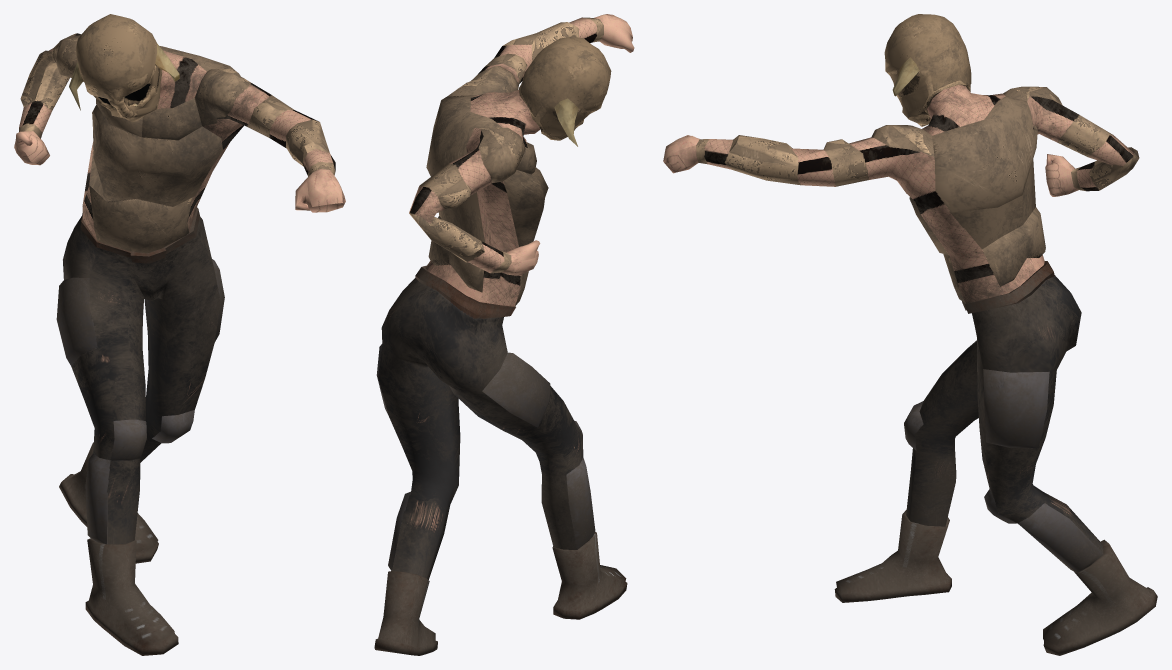
Rendered from Anim_ataque_d3_npc1.0035.obj.
3 views of the same model, side by side, from view 1: azimuth 30°, elevation 25°; view 2: azimuth 150°, elevation 25°; view 3: azimuth 270°, elevation 25° (orthographic). The views are drawn at different scales.
Visible parts, largest first — view 1: NPC2; view 2: NPC2; view 3: NPC2.
Boxes of the visible parts, <box> form: NPC2: <box>14,14,345,655</box>; NPC2: <box>374,14,634,655</box>; NPC2: <box>663,14,1157,655</box>.
Bounding box in the file's own units: 2.71 × 8.66 × 6.58.
